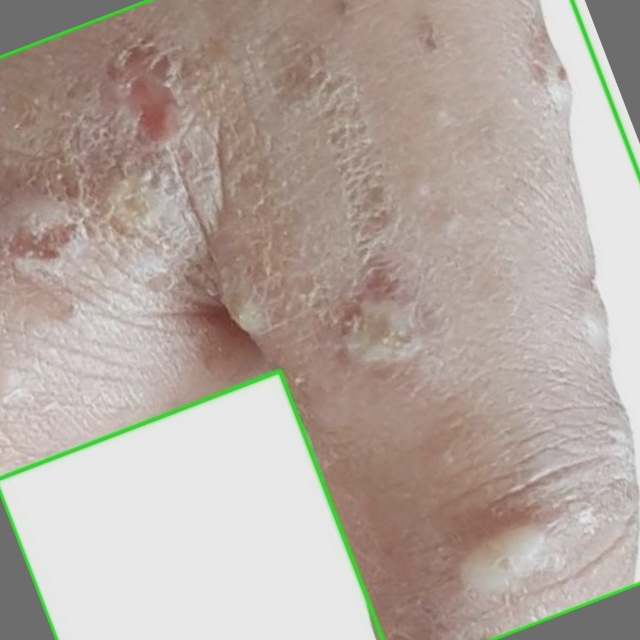Scabies: (0, 0, 639, 639), (0, 371, 382, 639)
